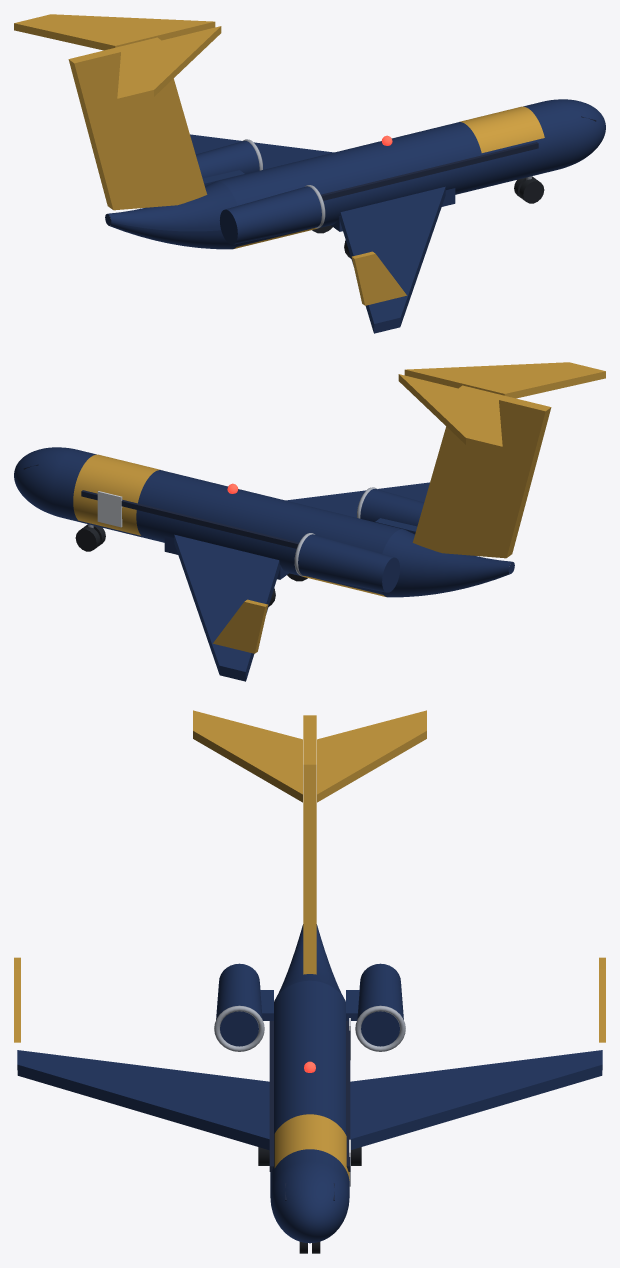
The model's file is bizjet-navy.glb.
3 renders of one model, top to bottom at view 1: azimuth 30°, elevation 25°; view 2: azimuth 150°, elevation 25°; view 3: azimuth 270°, elevation 25°, orthographic. The views are drawn at different scales.
Parts seen in each view (by area): view 1: Fuselage, Fin, WingR, TailCone, StabL, StabR, NacelleR, LiveryBand, Nose, Winglet, NacelleL, Windows (+2 smaller); view 2: Fuselage, Fin, WingL, TailCone, StabR, StabL, NacelleL, LiveryBand, Nose, Winglet, NacelleR, WingR (+3 smaller); view 3: WingR, WingL, Fuselage, Nose, StabR, StabL, Fin, NacelleR, NacelleL, LiveryBand, TailCone, Windows (+2 smaller).
Boxes of the visible parts, x1,y1,x2,y2 form: Fuselage: (217, 101, 567, 248); Fin: (68, 37, 207, 210); WingR: (340, 186, 445, 333); TailCone: (108, 181, 237, 249); StabL: (14, 14, 215, 50); StabR: (117, 26, 221, 105); NacelleR: (219, 186, 321, 244); LiveryBand: (459, 106, 544, 152); Nose: (544, 99, 605, 169); Winglet: (351, 251, 406, 305); NacelleL: (196, 141, 259, 178); Windows: (321, 142, 538, 200); Fuselage: (52, 449, 402, 596); Fin: (412, 385, 551, 558); WingL: (174, 534, 279, 681); TailCone: (382, 529, 511, 597); StabR: (404, 362, 605, 398); StabL: (398, 374, 502, 453); NacelleL: (298, 534, 400, 592); LiveryBand: (73, 454, 160, 535); Nose: (14, 447, 75, 517); Winglet: (213, 599, 268, 653); NacelleR: (360, 489, 423, 526); WingR: (286, 482, 429, 517); WingR: (17, 1050, 269, 1150); WingL: (350, 1050, 602, 1149); Fuselage: (270, 980, 349, 1195); Nose: (270, 1161, 349, 1243); StabR: (193, 710, 302, 802); StabL: (317, 710, 426, 802); Fin: (303, 715, 316, 974); NacelleR: (216, 963, 262, 1046); NacelleL: (357, 963, 403, 1046); LiveryBand: (274, 1114, 349, 1180); TailCone: (276, 924, 343, 997); Windows: (269, 1021, 350, 1171).
Size of the model in its own units: 20.43 by 9.16 by 17.2.
